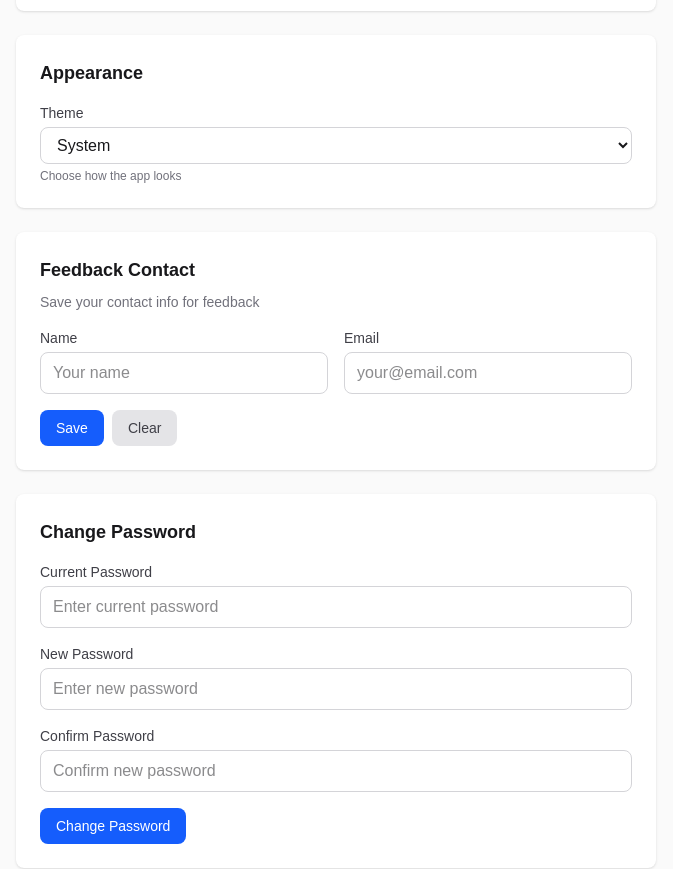
Scenario: SettingsPage › Change password section › shows error when new password is too short
(page scrolled)
Type "oldpass" into the password field labelled "Current Password" at (336, 607), box [40,586,632,628]
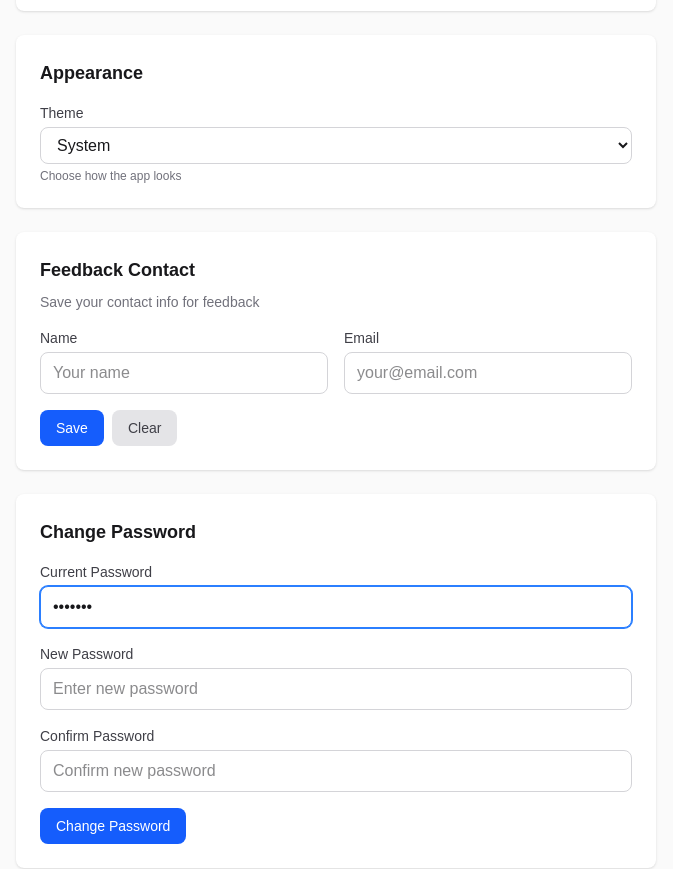
Type "abc" into the password field labelled "New Password" at (336, 689), box [40,668,632,710]
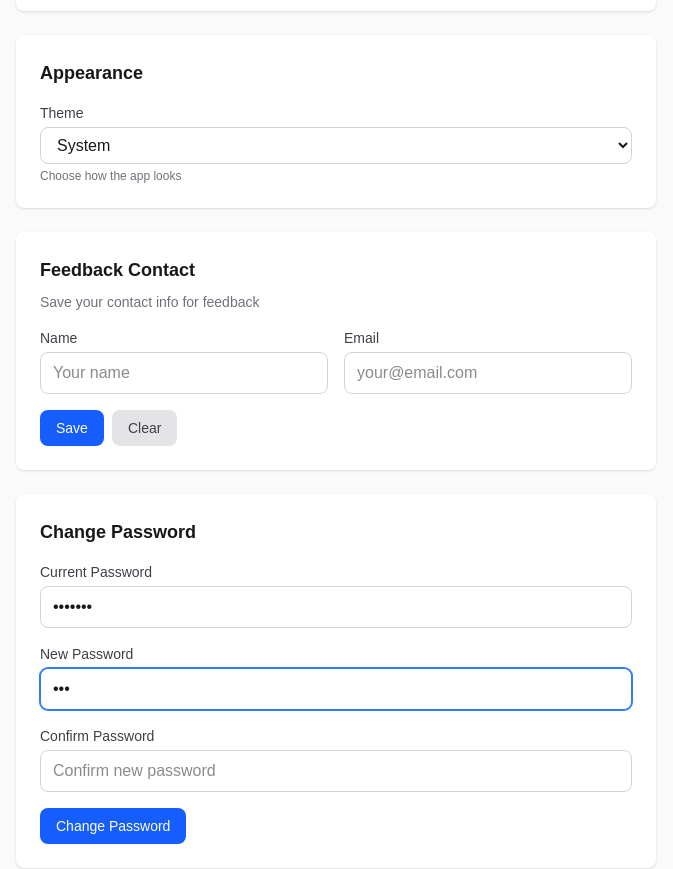
Click the button "Change Password" at (113, 826), box [40,808,186,844]
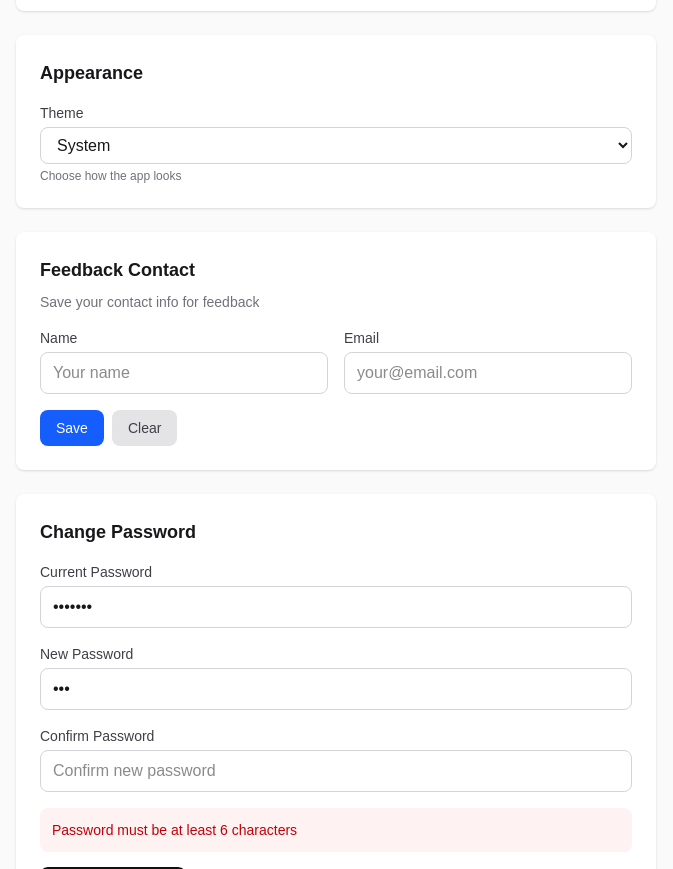
Expected: the text "Password must be at least 6 characters" is shown, [40,808,632,852]
